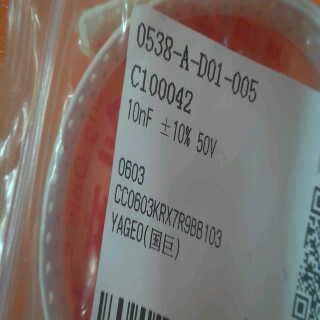10nF: (124, 97, 152, 135)
